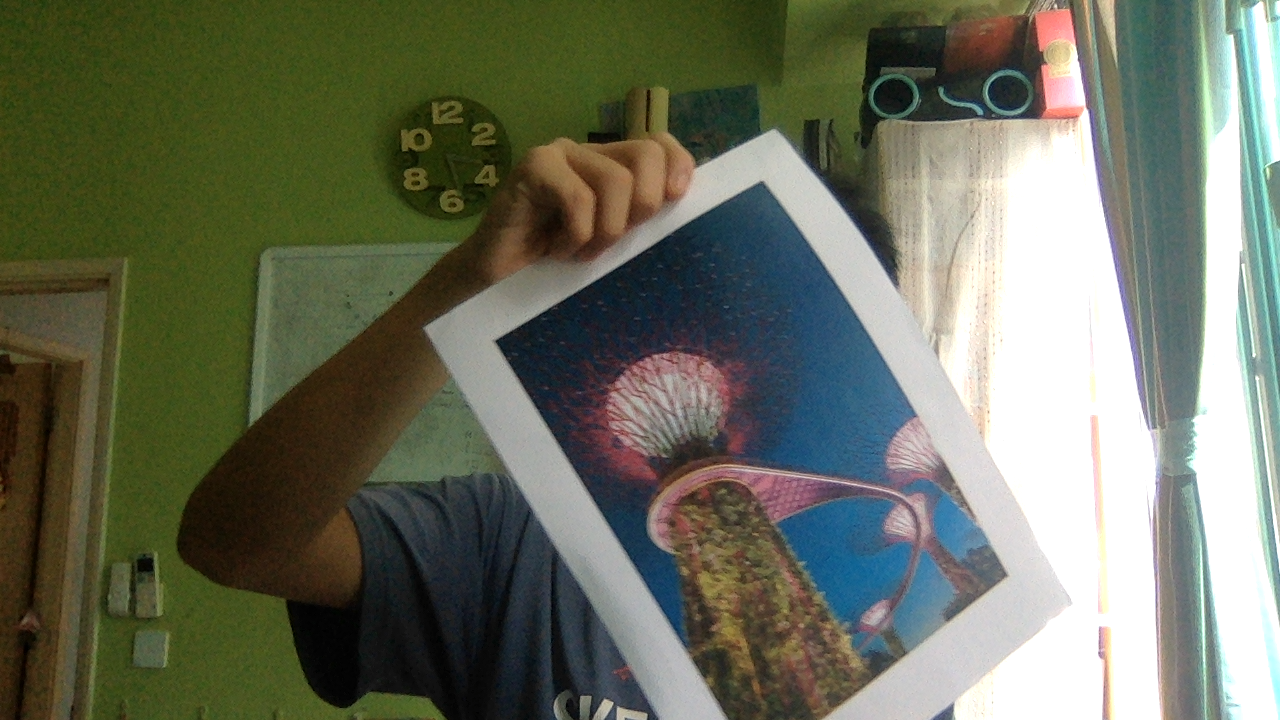GBTB: (494, 179, 1018, 720)
